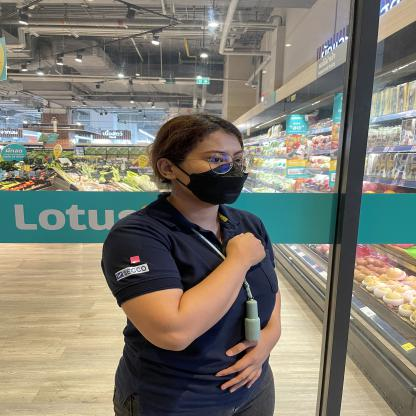Sadness: (178, 216, 286, 288)
